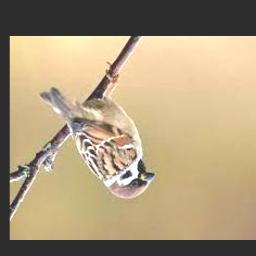Sparrow: (39, 67, 155, 199)
